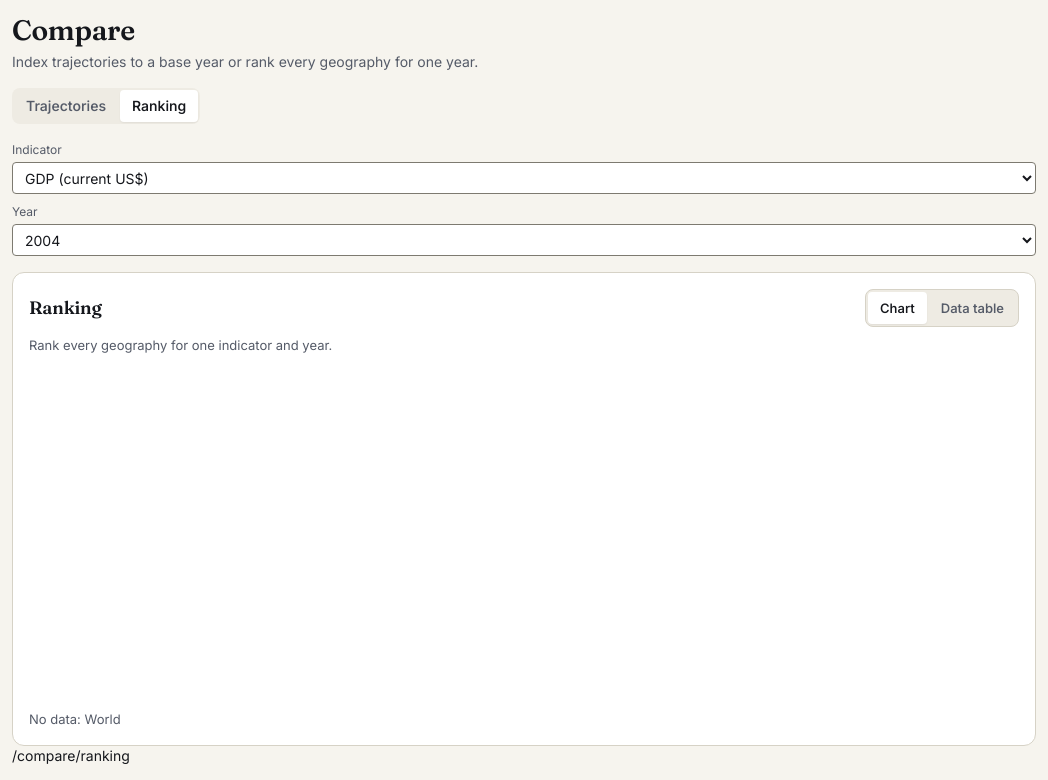
it: ComparePage ranking › ranks every geography, highlights Ecuador and lists missing values last
Check: the dropdown labelled "Year" is shown, box [12,224,1036,256]
Click the radio button labelled "Data table".
click(972, 308)  # box [929,292,1016,324]
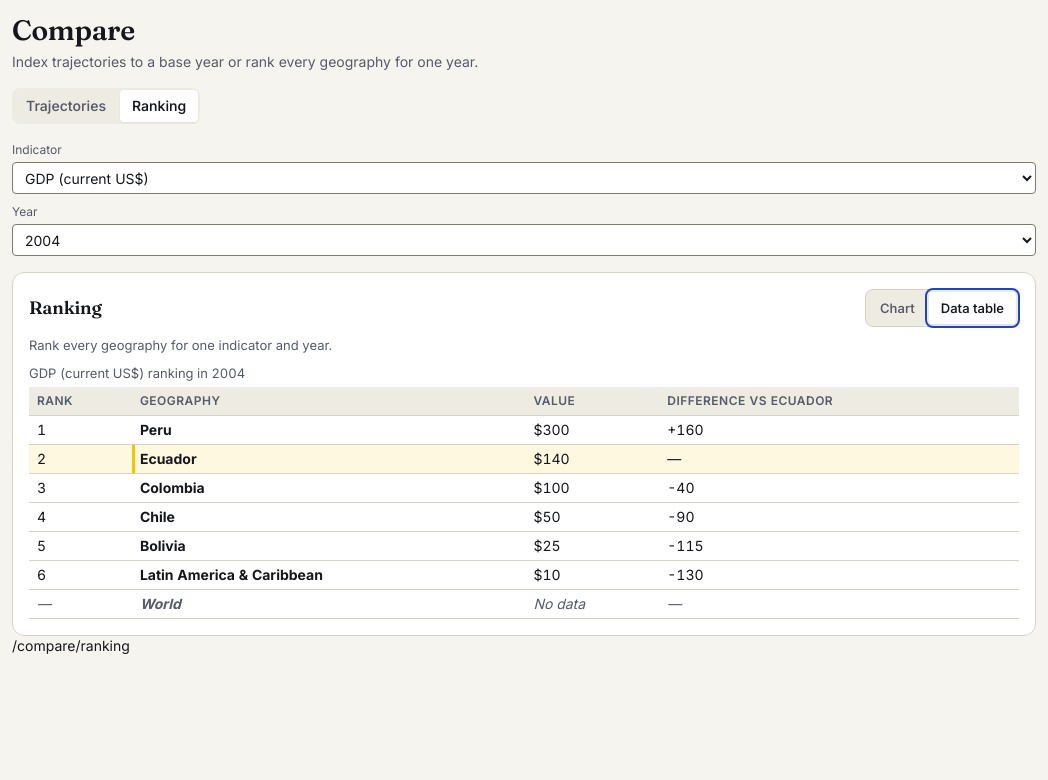
Check: the row "1 Peru $300 +160" is shown, box [29,416,1019,444]
Check: the row "2 Ecuador $140 —" is shown, box [29,444,1019,474]
Check: the row "— World No data —" is shown, box [29,590,1019,618]
